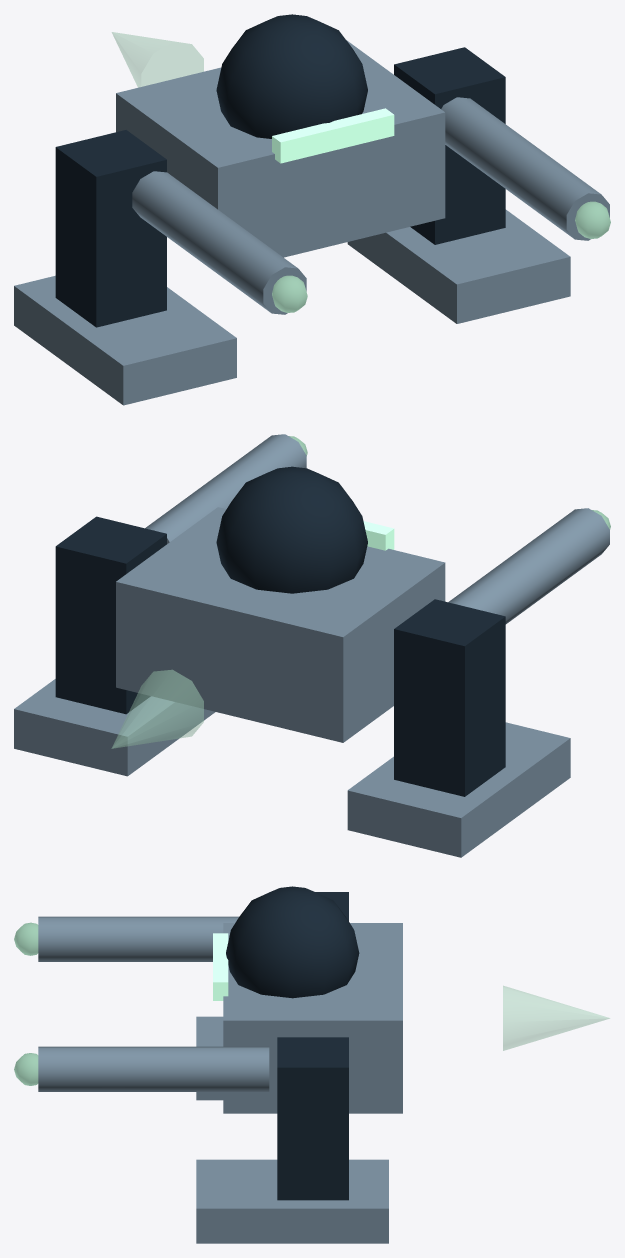
File: sentinel-stellar-design.glb
3 renders of one model, top to bottom at view 1: azimuth 30°, elevation 25°; view 2: azimuth 150°, elevation 25°; view 3: azimuth 270°, elevation 25°, orthographic. The views are drawn at different scales.
Parts seen in each view (by area): view 1: Sentinel Drone; view 2: Sentinel Drone; view 3: Sentinel Drone.
Boxes of the visible parts, <box> form: Sentinel Drone: <box>14,14,610,405</box>; Sentinel Drone: <box>14,434,610,857</box>; Sentinel Drone: <box>14,886,609,1243</box>.
Size of the model in its own units: 1.77 by 1.09 by 2.32.
